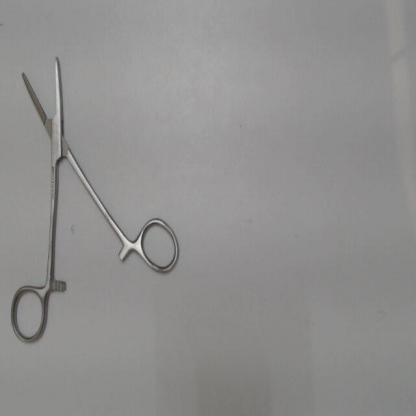Mayo Needle Holder: (6, 42, 188, 351)
